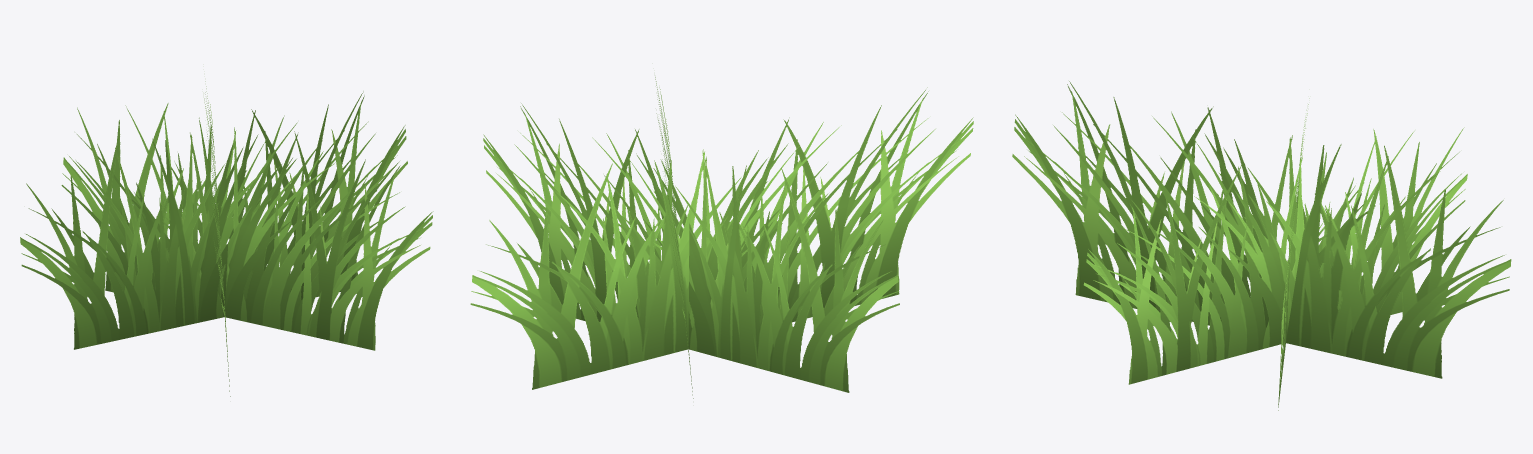
The model's file is grass_1.glb.
3 views of the same model, side by side, from view 1: azimuth 30°, elevation 25°; view 2: azimuth 150°, elevation 25°; view 3: azimuth 270°, elevation 25° (orthographic). The views are drawn at different scales.
Parts seen in each view (by area): view 1: grass_1; view 2: grass_1; view 3: grass_1.
Part boxes in pixels (x1,y1,x2,y2): grass_1: (20, 81, 433, 396); grass_1: (470, 77, 973, 398); grass_1: (1012, 81, 1511, 410).
Size of the model in its own units: 0.6689 by 0.3513 by 0.7183.
1 material, 1 textured.
